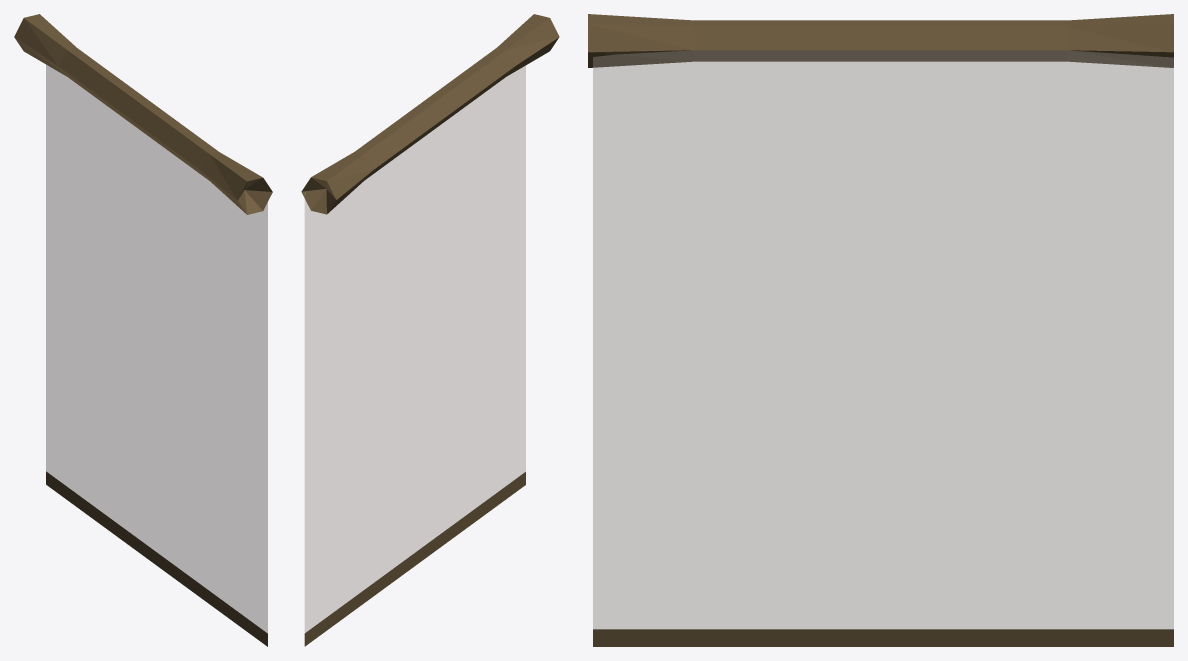
Rendered from model_loc_3188_1.obj.
3 renders of one model, left to right at view 1: azimuth 30°, elevation 25°; view 2: azimuth 150°, elevation 25°; view 3: azimuth 270°, elevation 25°, orthographic. The views are drawn at different scales.
Parts seen in each view (by area): view 1: 3237; view 2: 3237; view 3: 3237.
Part boxes in pixels (x1,y1,x2,y2): 3237: (14,14,272,646); 3237: (301,14,559,646); 3237: (588,14,1173,646).
Size of the model in its own units: 11 by 141 by 121.
